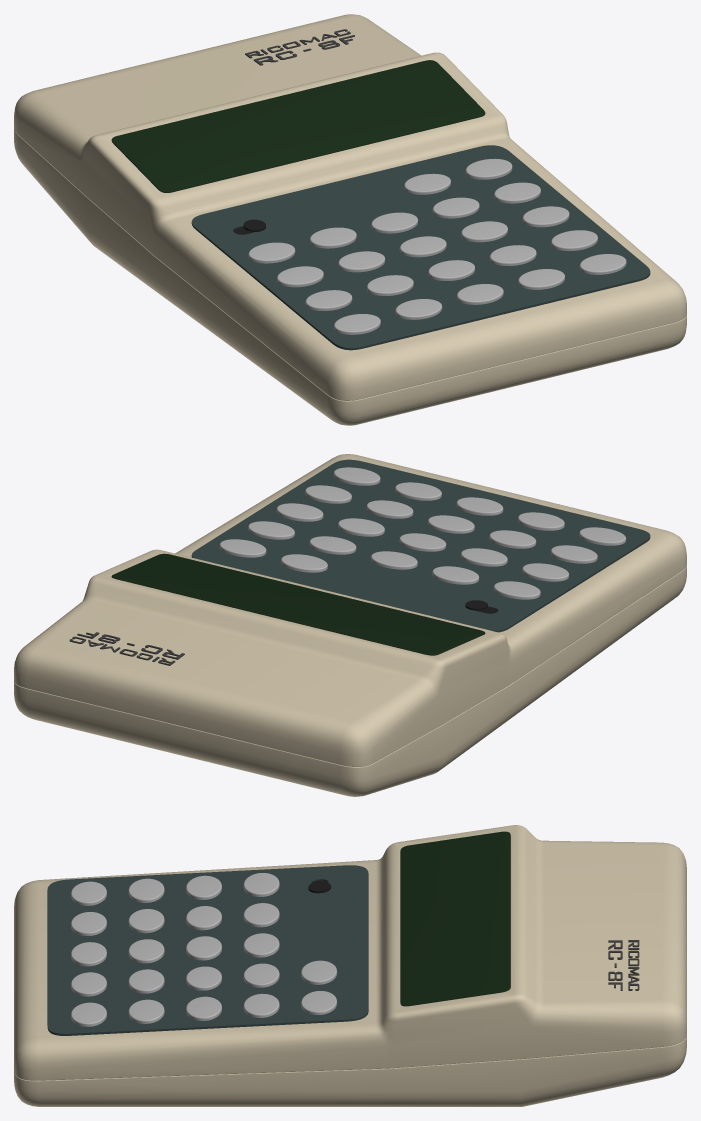
File: calc.glb
3 views of the same model, one above another, from view 1: azimuth 30°, elevation 25°; view 2: azimuth 150°, elevation 25°; view 3: azimuth 270°, elevation 25° (orthographic).
Parts seen in each view (by area): view 1: Object002, Box002, Object001, Box001, Ellipse012 (×22); view 2: Object002, Box002, Box001, Ellipse012 (×22), Object001; view 3: Object002, Box002, Box001, Object001, Ellipse012 (×22), TextPlus001.
Part boxes in pixels (left/top/right/bottom): Object002: left=14, top=14, right=686, bottom=400; Box002: left=191, top=145, right=650, bottom=350; Object001: left=111, top=60, right=485, bottom=192; Box001: left=14, top=129, right=686, bottom=425; Ellipse012 (×22): left=248, top=158, right=626, bottom=334; Object002: left=14, top=454, right=686, bottom=766; Box002: left=191, top=459, right=650, bottom=632; Box001: left=14, top=565, right=686, bottom=796; Ellipse012 (×22): left=219, top=467, right=626, bottom=599; Object001: left=111, top=553, right=485, bottom=655; Object002: left=14, top=825, right=686, bottom=1080; Box002: left=47, top=865, right=368, bottom=1035; Box001: left=14, top=1035, right=686, bottom=1106; Object001: left=400, top=831, right=510, bottom=1006; Ellipse012 (×22): left=71, top=873, right=337, bottom=1026; TextPlus001: left=628, top=940, right=639, bottom=990.
Size of the model in its own units: 0.083 by 0.0258 by 0.135.
